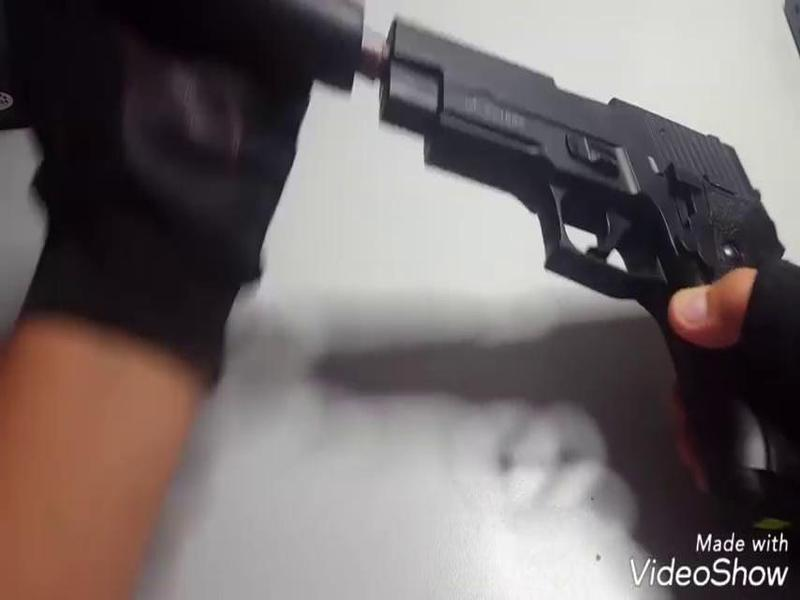Pistola: (377, 13, 800, 517)
